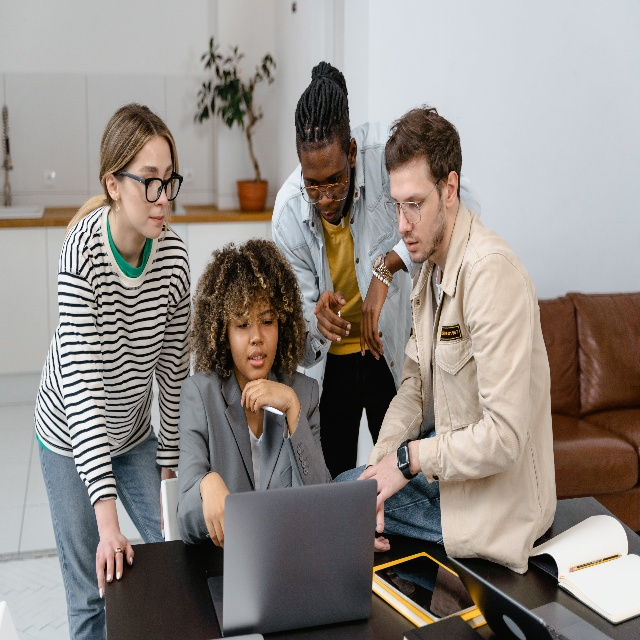Gafas: (384, 176, 442, 224), (300, 155, 349, 205), (120, 170, 183, 203)
Sin_guantes: (355, 449, 410, 513), (95, 528, 135, 599), (360, 270, 388, 361), (201, 472, 231, 548), (241, 377, 294, 415), (314, 290, 351, 342), (374, 502, 390, 553)
